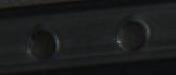joints: (114, 13, 151, 53), (24, 25, 61, 62)
